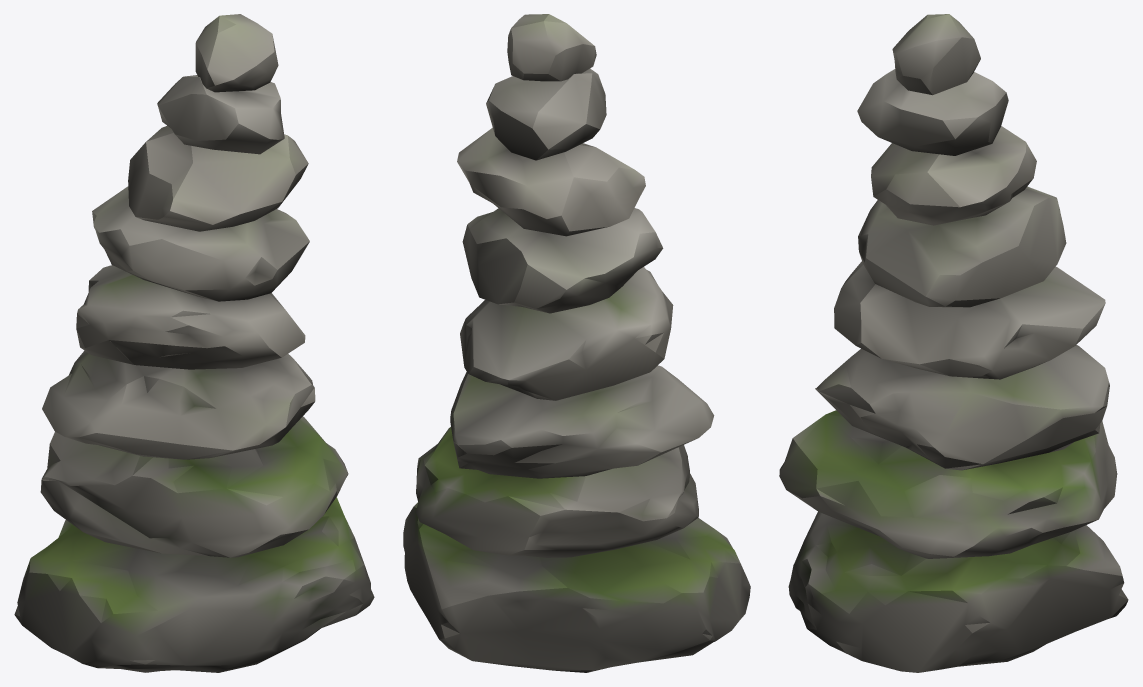
File: land-stoneCairn-v1.glb
3 renders of one model, left to right at view 1: azimuth 30°, elevation 25°; view 2: azimuth 150°, elevation 25°; view 3: azimuth 270°, elevation 25°, orthographic. The views are drawn at different scales.
Visible parts, largest first — view 1: 0_stoneCairn; view 2: 0_stoneCairn; view 3: 0_stoneCairn.
Part boxes in pixels (x1,y1,x2,y2): 0_stoneCairn: (14, 14, 374, 672); 0_stoneCairn: (403, 14, 750, 672); 0_stoneCairn: (779, 14, 1128, 672).
Size of the model in its own units: 0.8538 by 1.54 by 0.7941.
